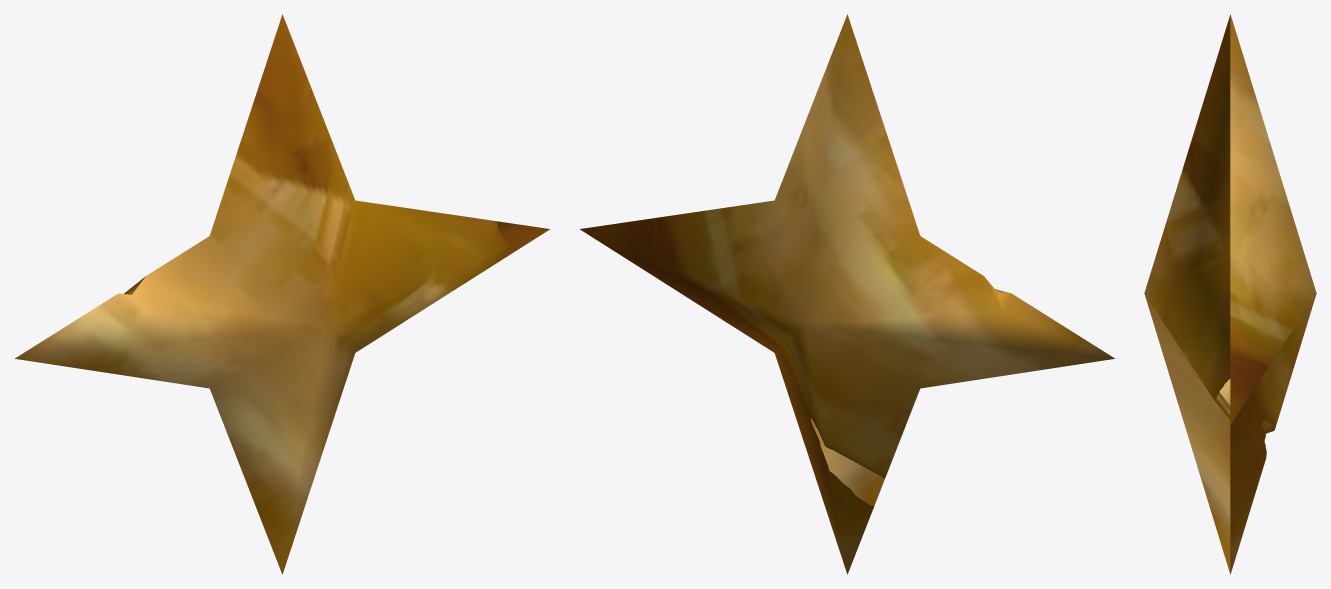
3 views of the same model, side by side, from view 1: azimuth 30°, elevation 25°; view 2: azimuth 150°, elevation 25°; view 3: azimuth 270°, elevation 25° (orthographic).
Visible parts, largest first — view 1: SM_Gold_Ore_Large_01_LOD0; view 2: SM_Gold_Ore_Large_01_LOD0; view 3: SM_Gold_Ore_Large_01_LOD0.
Boxes of the visible parts, x1,y1,x2,y2 form: SM_Gold_Ore_Large_01_LOD0: [15, 14, 549, 574]; SM_Gold_Ore_Large_01_LOD0: [580, 14, 1114, 574]; SM_Gold_Ore_Large_01_LOD0: [1144, 14, 1316, 574].
Bounding box in the file's own units: 0.8944 × 0.8944 × 0.249.
